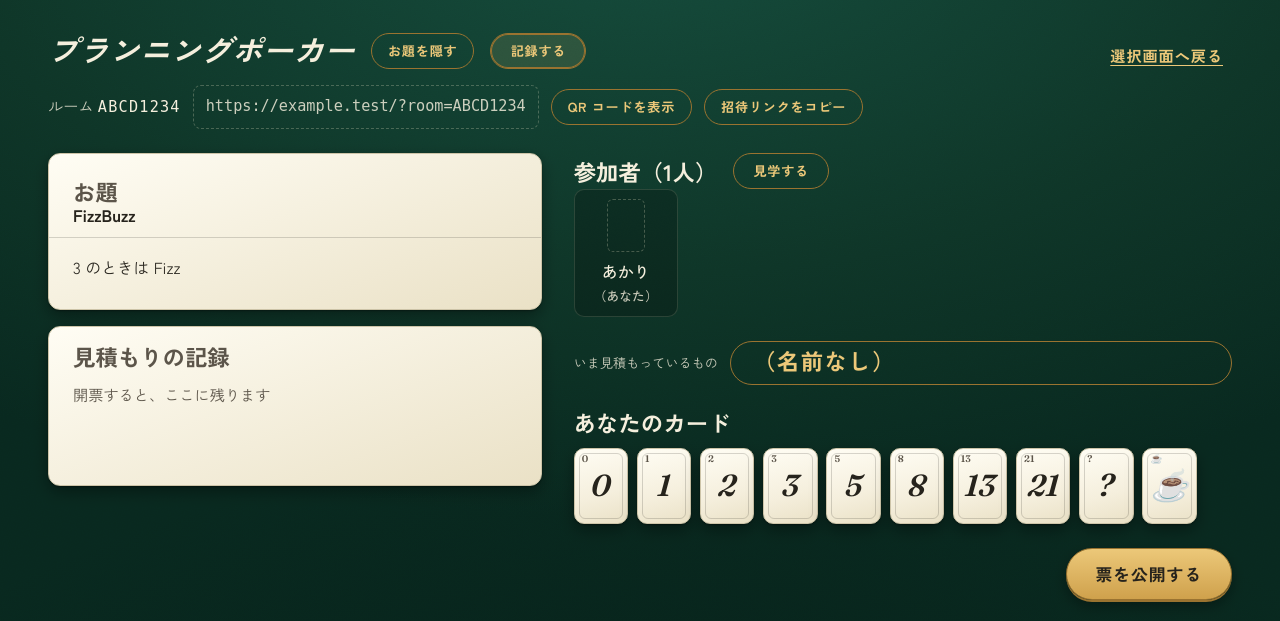
Test case: poker のお題は手元で隠せる（#316 PR 1） › U5: Given お題が開いている / When 「お題を隠す」を押す / Then 札は DOM に残り inert で閉じ、「お題を見る」になる。もう一度押すと開く
Click the button "お題を隠す" at (423,51), box [371,33,474,69]
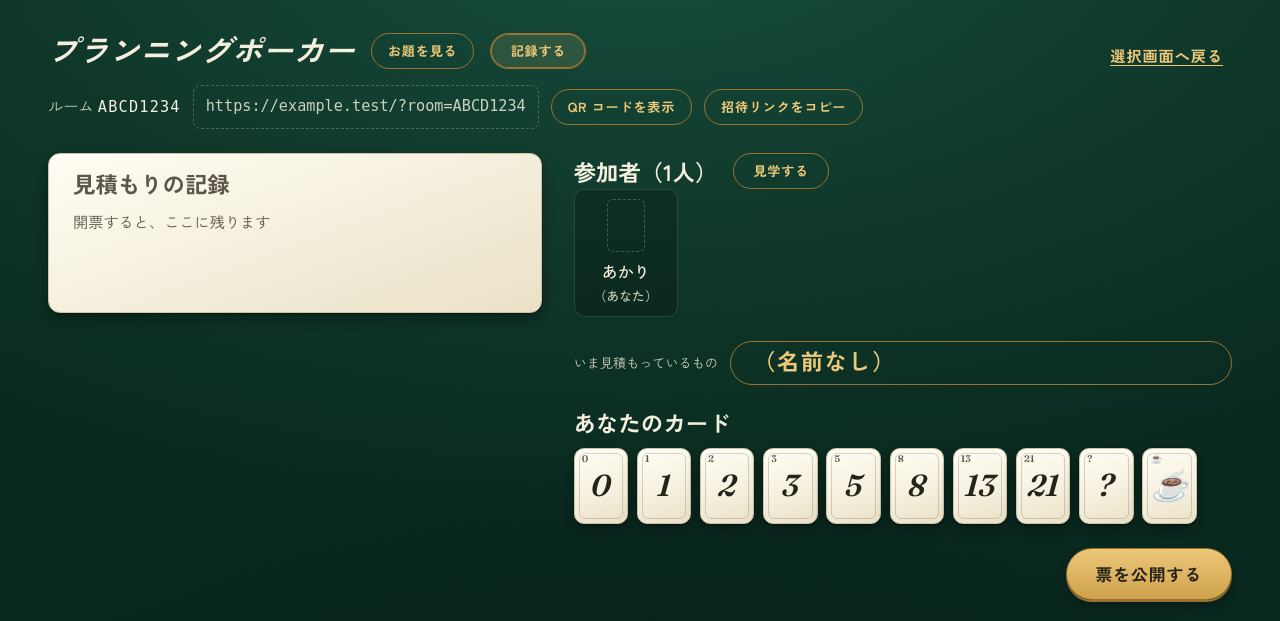
Result: the button "お題を見る" is collapsed
Click the button "お題を見る" at (423,51), box [371,33,474,69]
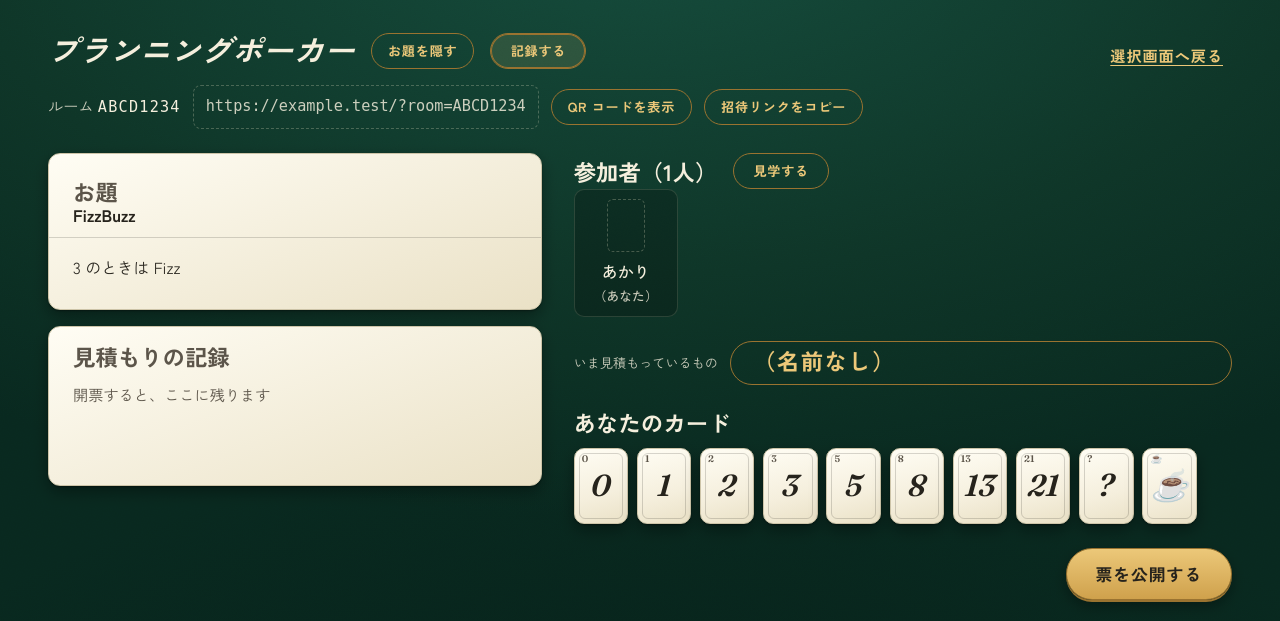
Result: the button "お題を隠す" is expanded at [371,33,474,69]
